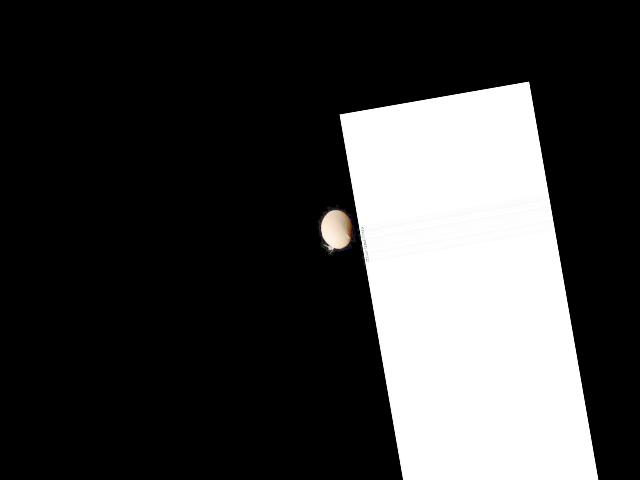egg: (318, 207, 355, 250)
